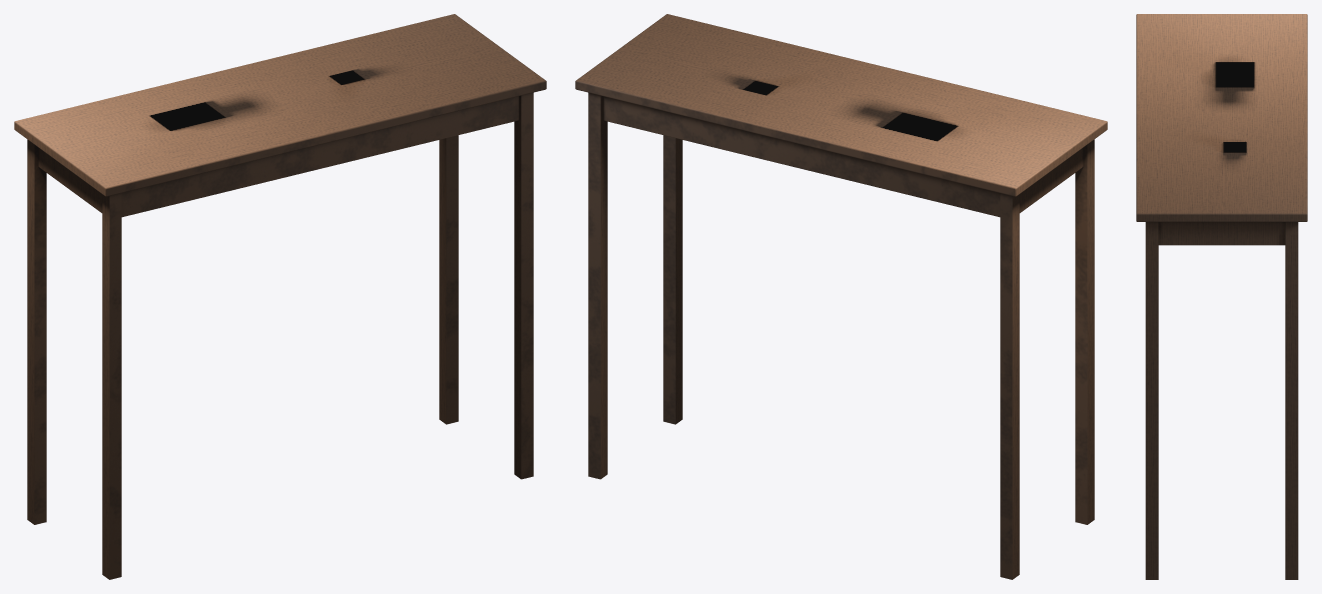
3 views of the same model, side by side, from view 1: azimuth 30°, elevation 25°; view 2: azimuth 150°, elevation 25°; view 3: azimuth 270°, elevation 25° (orthographic). The views are drawn at different scales.
Visible parts, largest first — view 1: Table; view 2: Table; view 3: Table.
Part boxes in pixels (box(x1,y1,x2,y2)): Table: box(14, 14, 546, 579); Table: box(575, 14, 1107, 579); Table: box(1136, 14, 1307, 579).
Size of what is drawn, in the model's own units: 3.6 by 3.1 by 1.3.
1 material, 1 textured.
